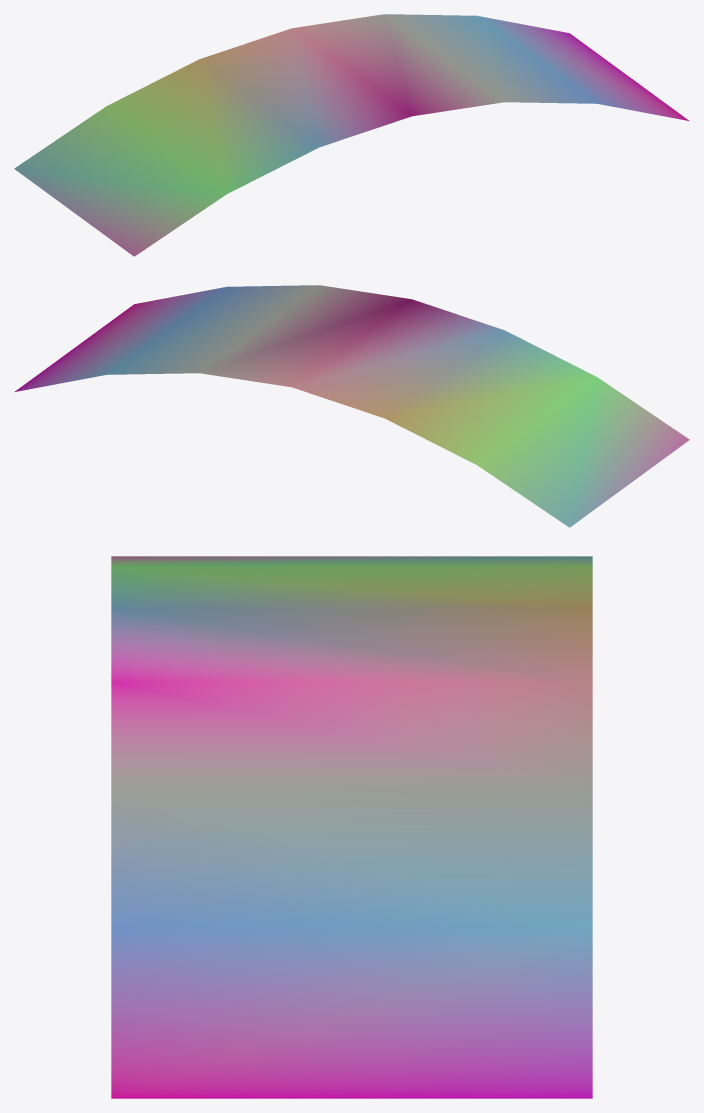
The model's file is gps_05.glb.
The picture shows the model from 3 angles, top to bottom: view 1: azimuth 30°, elevation 25°; view 2: azimuth 150°, elevation 25°; view 3: azimuth 270°, elevation 25°; orthographic projection. The views are drawn at different scales.
Parts seen in each view (by area): view 1: bridge_00; view 2: bridge_00; view 3: bridge_00.
Boxes of the visible parts, box(x1,y1,x2,y2) form: bridge_00: box(14, 14, 688, 256); bridge_00: box(15, 285, 689, 527); bridge_00: box(111, 556, 592, 1098).
Bounding box in the file's own units: 2 × 0.25 × 0.75.
